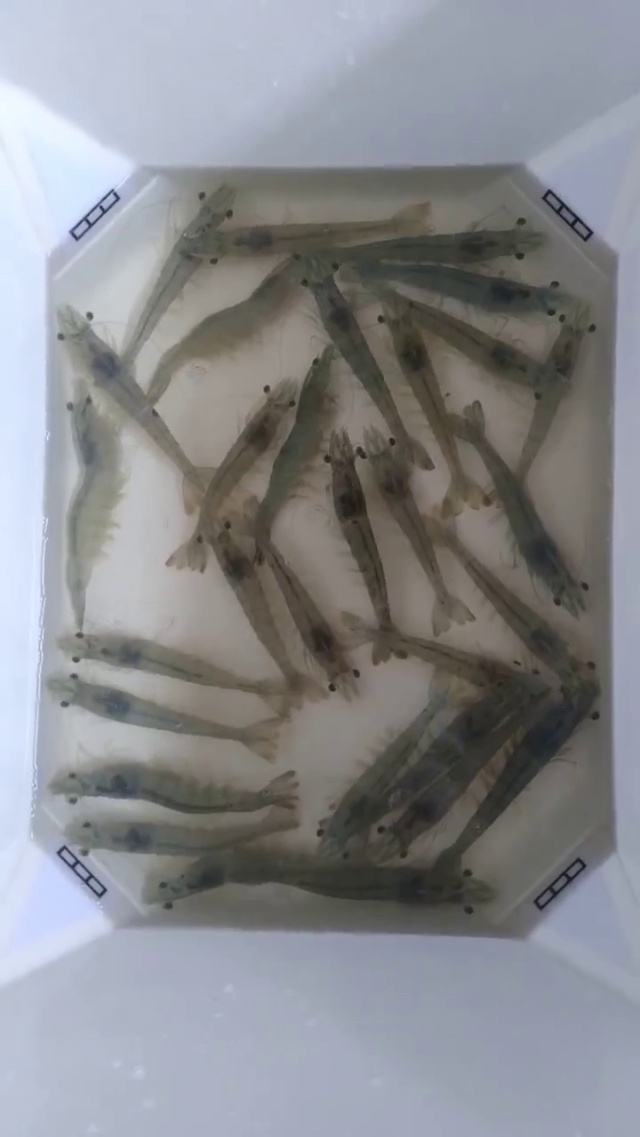shrimp: (557, 177, 639, 503), (566, 408, 639, 749), (455, 544, 571, 730), (174, 487, 288, 669), (582, 494, 639, 812), (319, 707, 431, 863), (51, 686, 160, 846), (85, 330, 196, 483), (67, 762, 176, 917), (47, 206, 138, 388), (134, 185, 234, 349), (442, 401, 539, 569), (421, 779, 525, 928), (257, 346, 335, 536), (466, 166, 566, 313), (245, 766, 356, 898), (46, 455, 127, 635), (326, 236, 443, 354), (0, 212, 49, 465), (228, 190, 336, 299), (344, 345, 433, 477), (514, 320, 586, 480), (146, 814, 248, 925), (374, 598, 496, 684), (70, 600, 184, 690), (166, 468, 214, 571)
